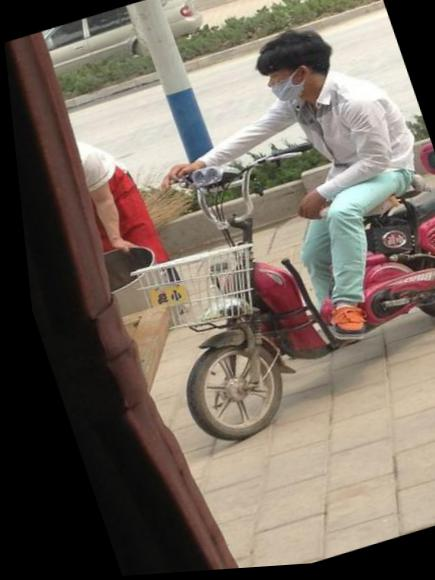WRONG: (257, 54, 318, 117)
